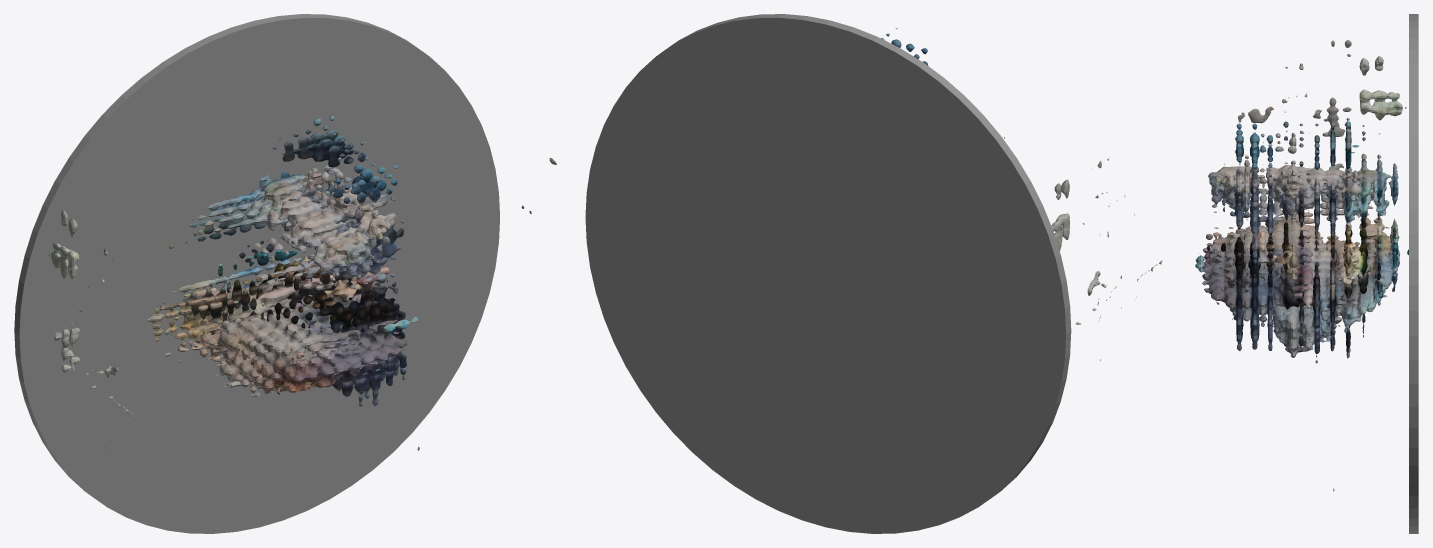
Rendered from Babel_TripoSR_Standing_10cm.glb.
The picture shows the model from 3 angles, left to right: view 1: azimuth 30°, elevation 25°; view 2: azimuth 150°, elevation 25°; view 3: azimuth 270°, elevation 25°; orthographic projection. The views are drawn at different scales.
Parts seen in each view (by area): view 1: geometry_0; view 2: geometry_0; view 3: geometry_0.
Part boxes in pixels (left/top/right/bottom): geometry_0: left=14, top=14, right=556, bottom=533; geometry_0: left=585, top=14, right=1162, bottom=533; geometry_0: left=1195, top=14, right=1418, bottom=533.
Size of the model in its own units: 240 by 240 by 103.
